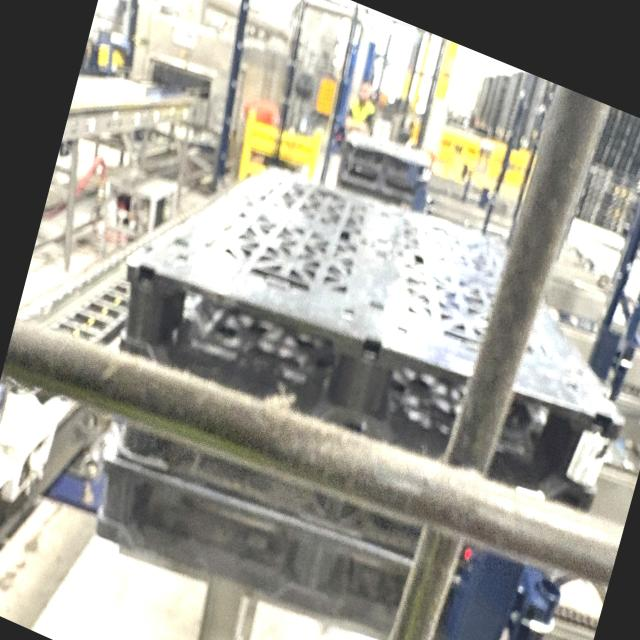igps: (113, 153, 632, 540)
